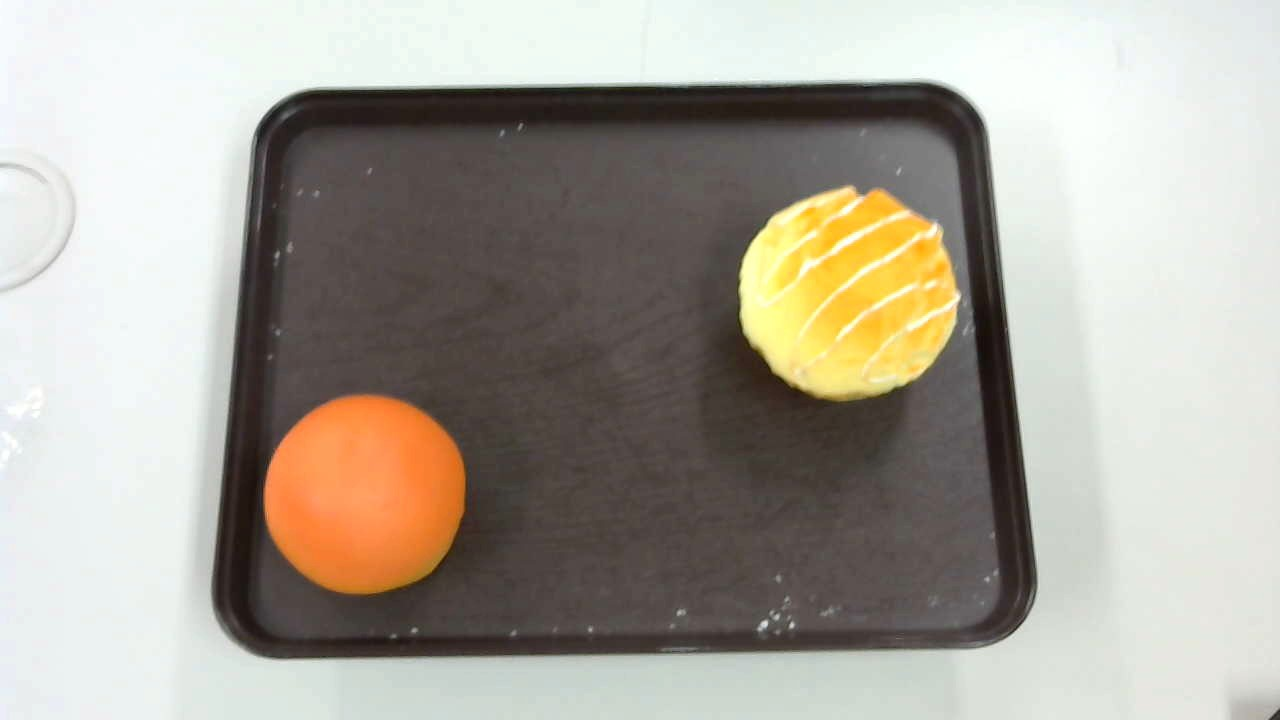bun: (262, 395, 465, 594)
cupcake: (738, 185, 962, 401)
